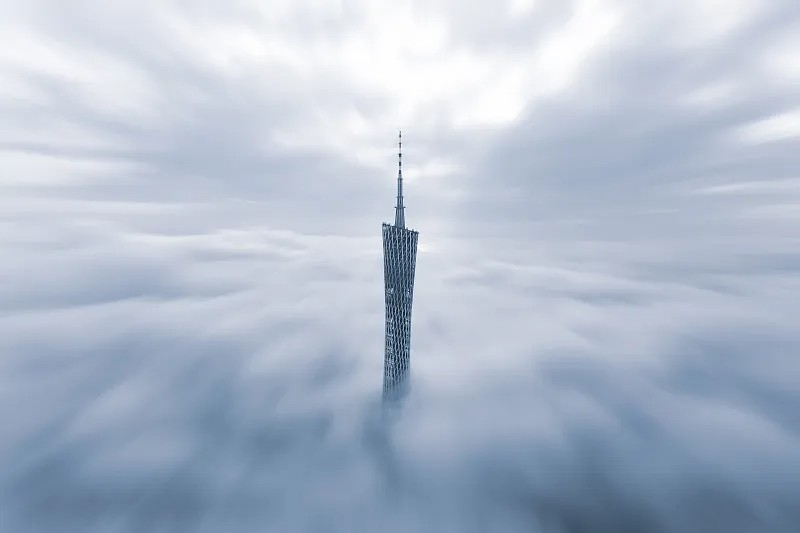Canton: (381, 132, 417, 413)
